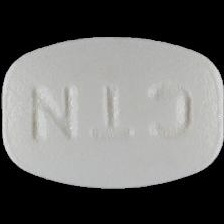68788-0790: (0, 0, 224, 224)
